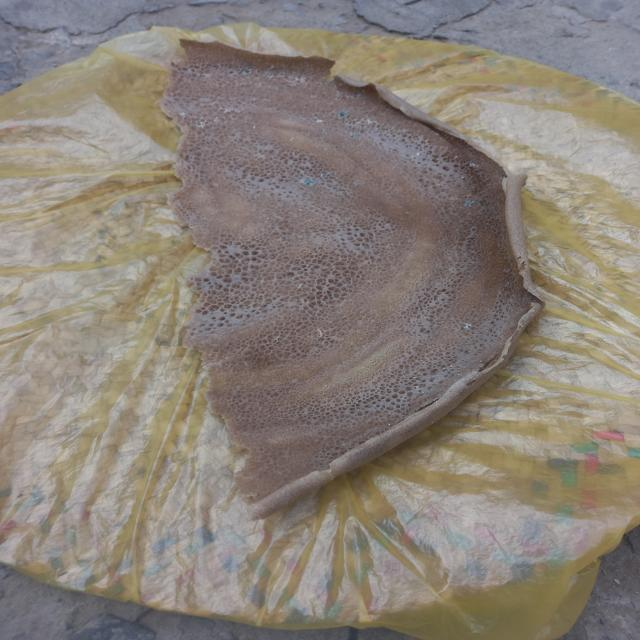injera_mold: (288, 73, 310, 86), (218, 106, 242, 113), (194, 118, 207, 128), (301, 178, 316, 186), (336, 110, 349, 118), (463, 200, 476, 208), (314, 117, 325, 124), (468, 162, 480, 168), (463, 322, 472, 329), (320, 172, 330, 178), (265, 72, 274, 78), (349, 134, 356, 140), (180, 111, 186, 118), (242, 69, 251, 73), (352, 181, 360, 185), (228, 70, 235, 74), (415, 385, 420, 390), (322, 130, 328, 134), (415, 152, 420, 156), (416, 380, 420, 382), (449, 365, 453, 367), (413, 376, 416, 378), (457, 374, 460, 376), (443, 367, 445, 369)
